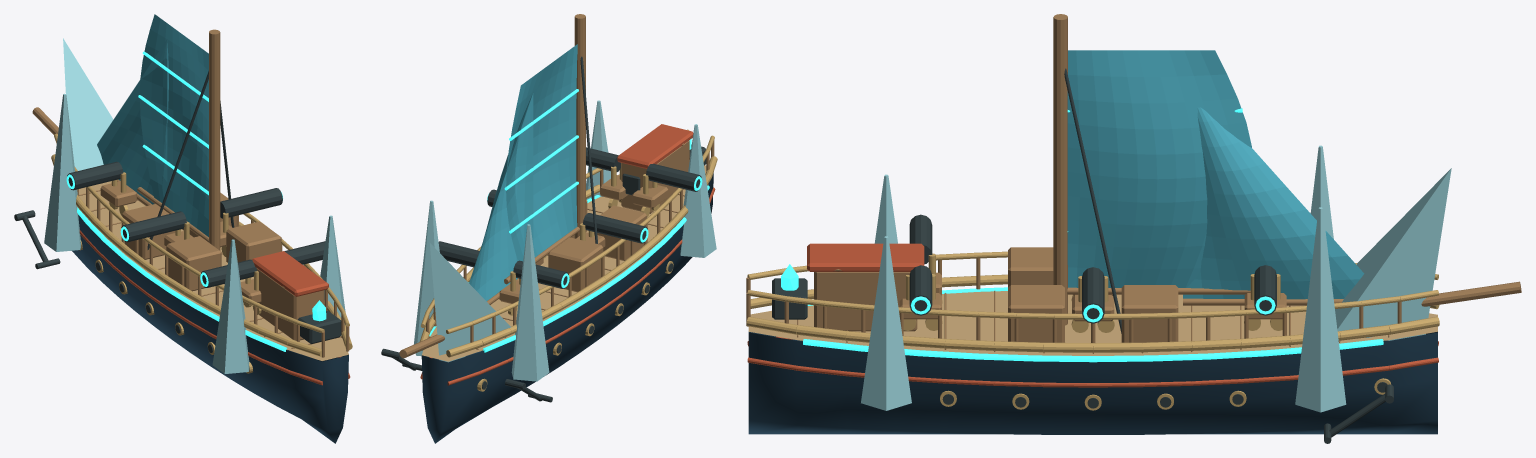
File: ship_combat_cutter.glb
3 views of the same model, side by side, from view 1: azimuth 30°, elevation 25°; view 2: azimuth 150°, elevation 25°; view 3: azimuth 270°, elevation 25° (orthographic). The views are drawn at different scales.
Visible parts, largest first — view 1: ship_combat_cutter; view 2: ship_combat_cutter; view 3: ship_combat_cutter.
Part boxes in pixels (x1,y1,x2,y2): ship_combat_cutter: [14, 14, 352, 443]; ship_combat_cutter: [381, 14, 717, 443]; ship_combat_cutter: [746, 14, 1521, 443].
Size of the model in its own units: 2.86 by 5.68 by 9.56.
